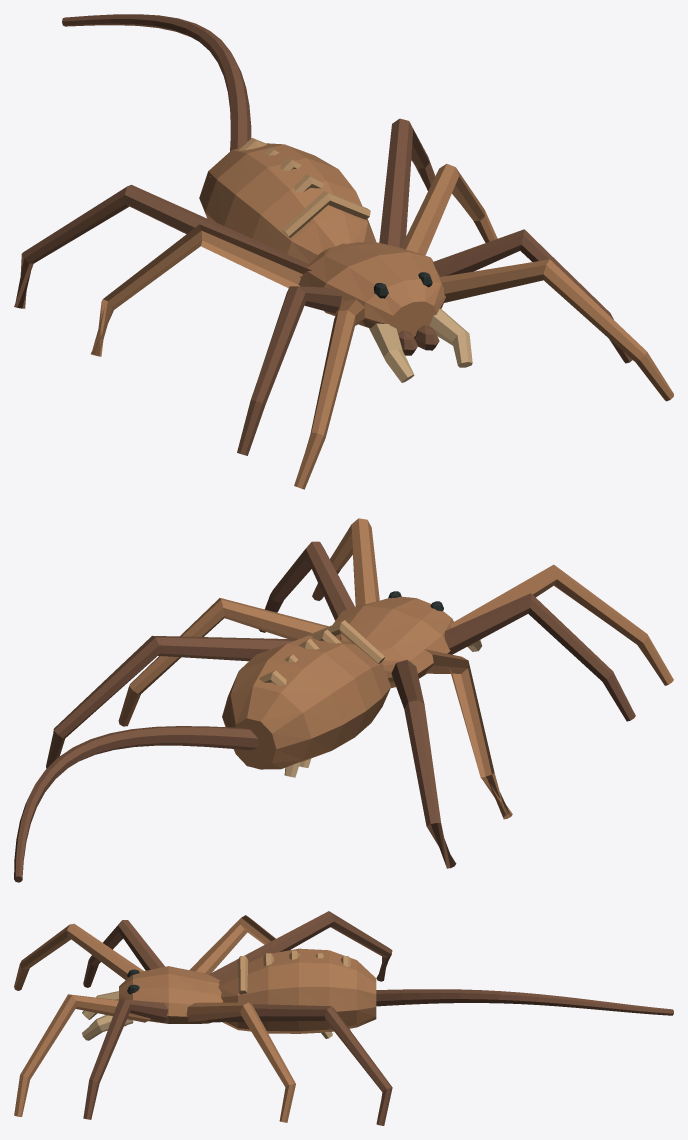
The model's file is chimerarachne.glb.
3 views of the same model, one above another, from view 1: azimuth 30°, elevation 25°; view 2: azimuth 150°, elevation 25°; view 3: azimuth 270°, elevation 25° (orthographic). The views are drawn at different scales.
Visible parts, largest first — view 1: segmented-opisthosoma, front-body, right-walking-leg-1, left-walking-leg-3, left-walking-leg-4, segmented-whip-tail, left-walking-leg-2, right-walking-leg-4, left-walking-leg-1, right-walking-leg-3, right-walking-leg-2, small-pedipalp--1 (+2 smaller); view 2: segmented-opisthosoma, front-body, segmented-whip-tail, right-walking-leg-4, left-walking-leg-2, right-walking-leg-3, left-walking-leg-1, left-walking-leg-4, left-walking-leg-3, right-walking-leg-2, right-walking-leg-1, dorsal-segment-boundary-4; view 3: segmented-opisthosoma, front-body, segmented-whip-tail, right-walking-leg-4, left-walking-leg-4, right-walking-leg-3, right-walking-leg-1, left-walking-leg-1, right-walking-leg-2, left-walking-leg-3, left-walking-leg-2, small-pedipalp-1 (+1 smaller).
Boxes of the visible parts, x1,y1,x2,y2 form: segmented-opisthosoma: (199, 143, 376, 264); front-body: (298, 242, 445, 336); right-walking-leg-1: (439, 259, 673, 401); left-walking-leg-3: (91, 224, 311, 356); left-walking-leg-4: (14, 184, 308, 308); segmented-whip-tail: (62, 14, 251, 151); left-walking-leg-2: (237, 286, 341, 455); right-walking-leg-4: (379, 118, 435, 247); left-walking-leg-1: (294, 299, 364, 489); right-walking-leg-3: (401, 164, 497, 255); right-walking-leg-2: (433, 229, 632, 363); small-pedipalp--1: (369, 323, 414, 382); segmented-opisthosoma: (222, 635, 390, 769); front-body: (332, 596, 453, 687); segmented-whip-tail: (14, 726, 258, 882); right-walking-leg-4: (46, 635, 297, 768); left-walking-leg-2: (444, 593, 635, 721); right-walking-leg-3: (118, 598, 328, 726); left-walking-leg-1: (450, 564, 673, 685); left-walking-leg-4: (391, 660, 456, 868); left-walking-leg-3: (424, 649, 512, 819); right-walking-leg-2: (259, 541, 355, 632); right-walking-leg-1: (312, 518, 379, 607); dorsal-segment-boundary-4: (303, 620, 384, 663); segmented-opisthosoma: (218, 948, 376, 1033); front-body: (119, 966, 223, 1023); segmented-whip-tail: (376, 989, 673, 1015); right-walking-leg-4: (207, 1004, 392, 1125); left-walking-leg-4: (209, 911, 392, 981); right-walking-leg-3: (186, 1002, 295, 1122); right-walking-leg-1: (14, 994, 150, 1116); left-walking-leg-1: (14, 923, 143, 990); right-walking-leg-2: (83, 999, 168, 1119); left-walking-leg-3: (189, 915, 290, 974); left-walking-leg-2: (83, 920, 165, 987); small-pedipalp-1: (82, 1015, 133, 1040).
Size of the model in its own units: 0.00383 by 0.00123 by 0.00716.
